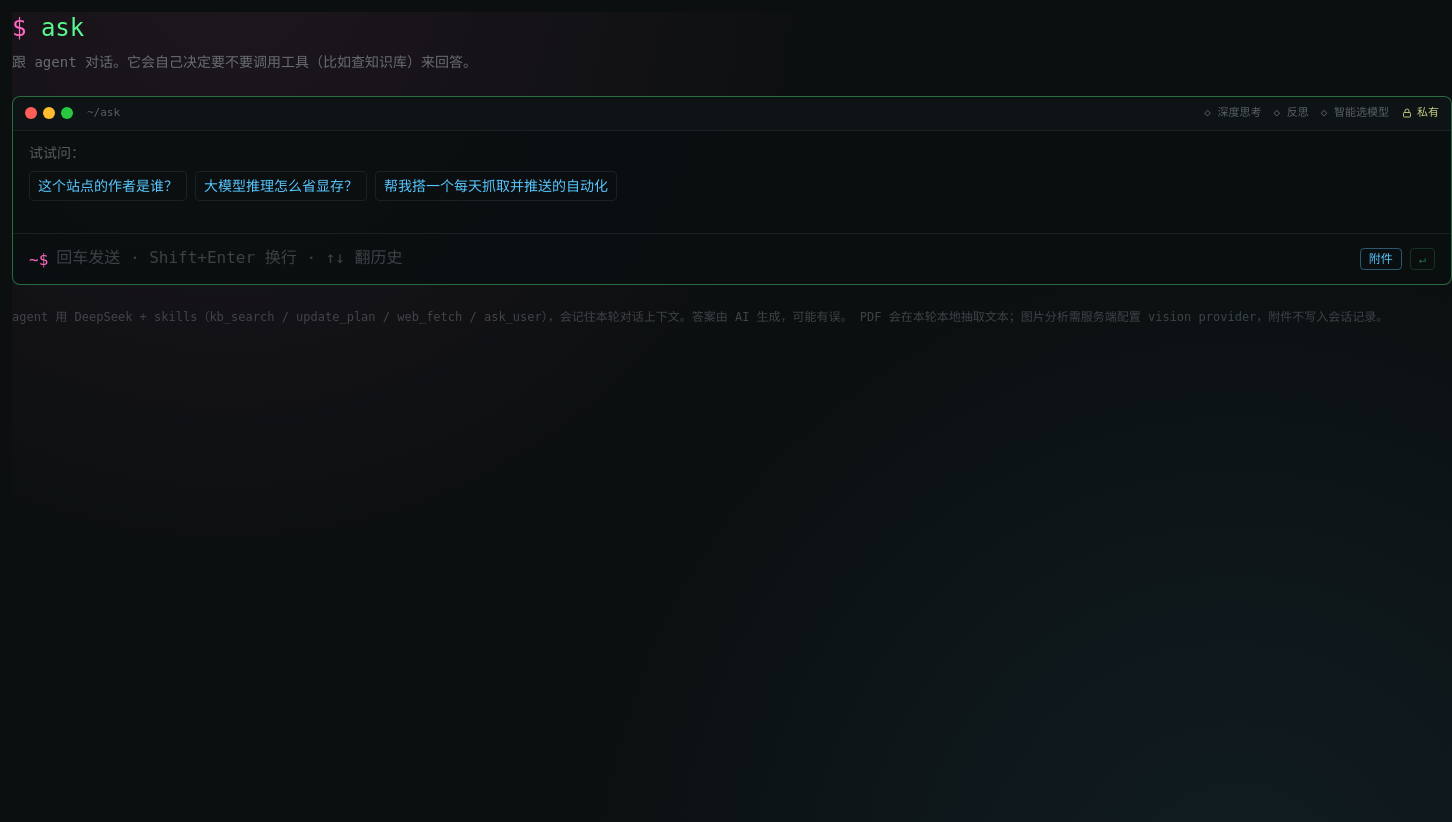
Scenario: Ask 模型路由 › 开启智能选模型后请求带 auto_model:true，route 事件渲染路由决策
Click the button "◇ 智能选模型" at point(1355, 113), box [1321,105,1389,122]
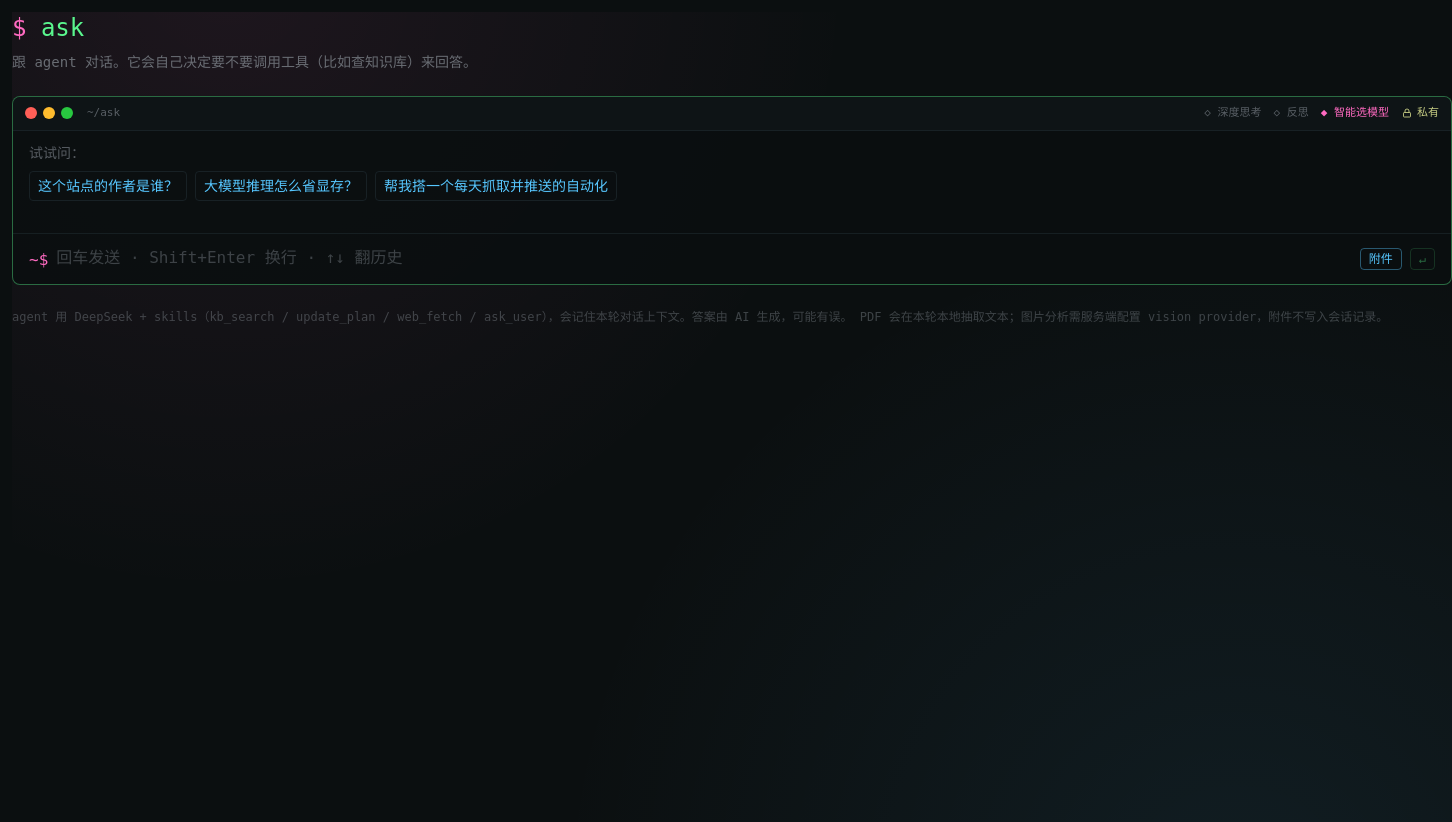
Type "证明勾股定理" into the text box with placeholder "回车发送 · Shift+Enter 换行 · ↑↓ 翻历史" at point(704, 258), box [56,246,1352,270]
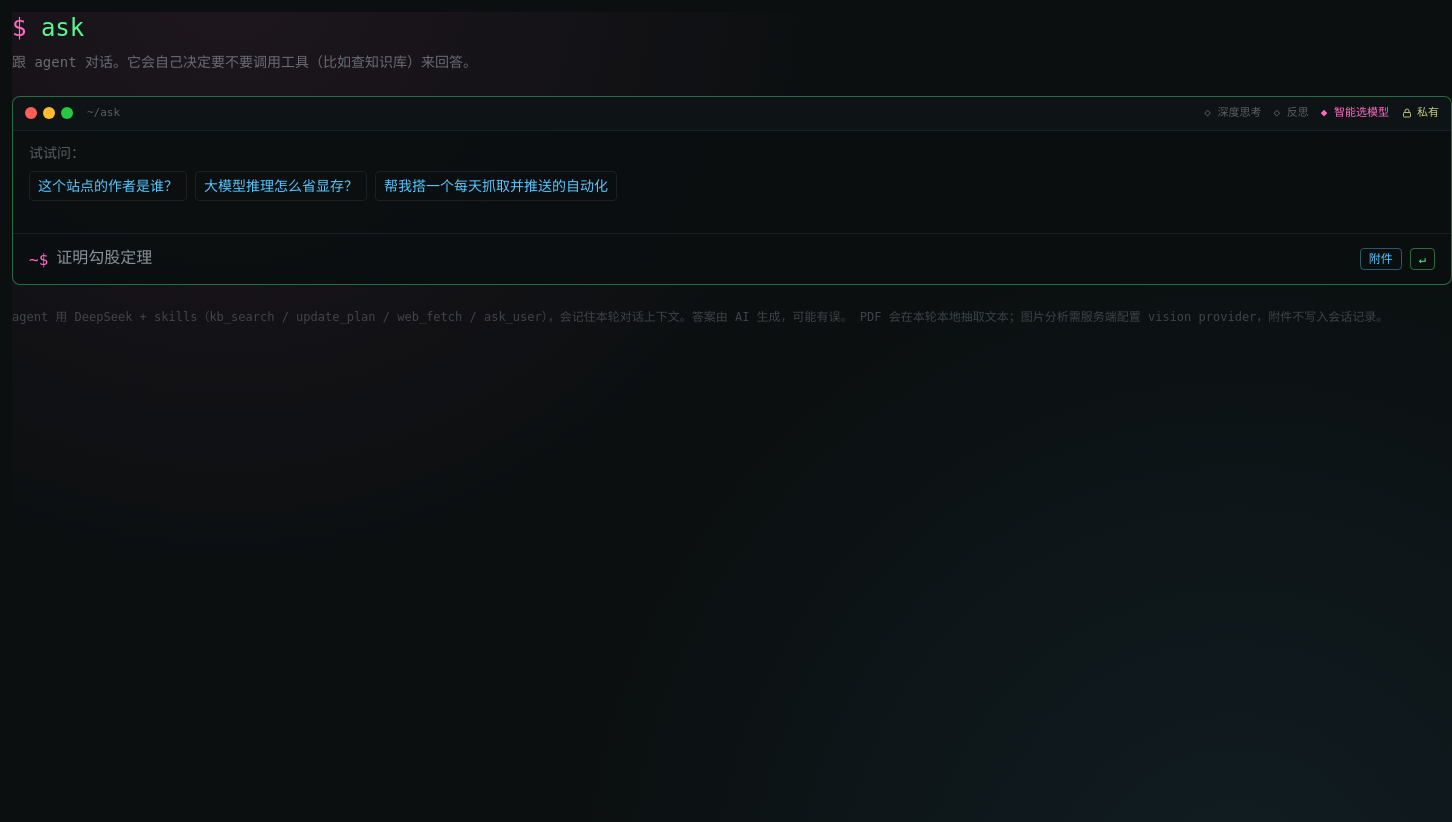
Submit the form, box [13,232,1451,284]
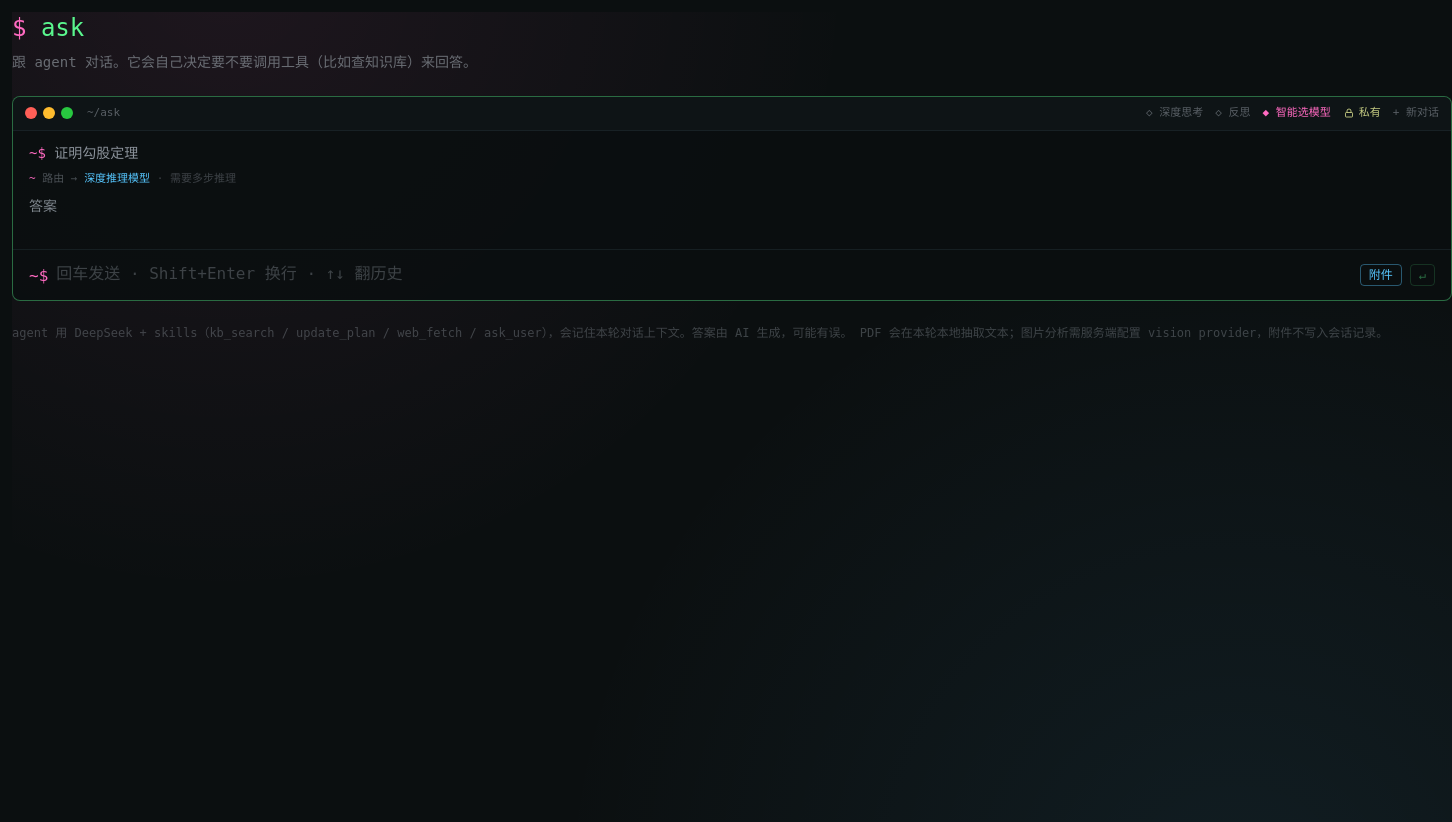
Expected: the text "答案" is shown, [29,198,57,214]
Expected: the text "深度推理模型" is shown, [84,172,150,184]
Expected: the text "· 需要多步推理" is shown, [150,172,236,184]
